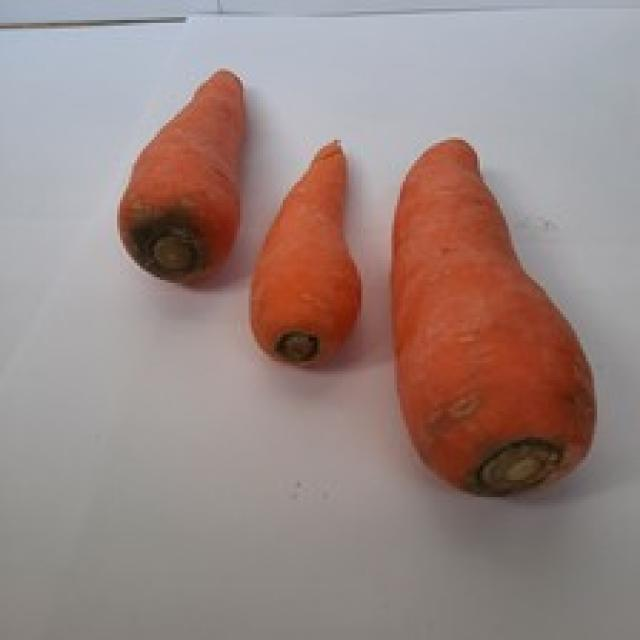Fresh_Carrot: (394, 132, 601, 495), (242, 154, 355, 363)
